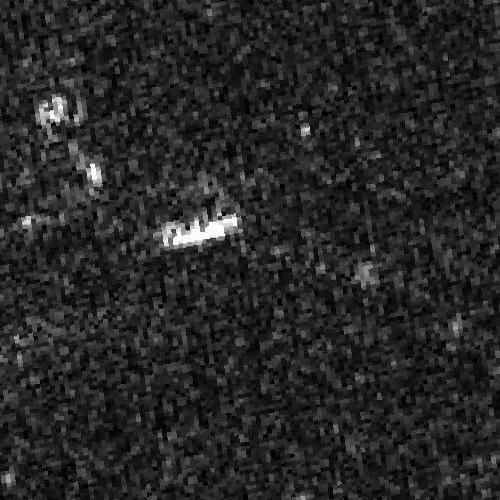ship: (153, 212, 244, 252)
